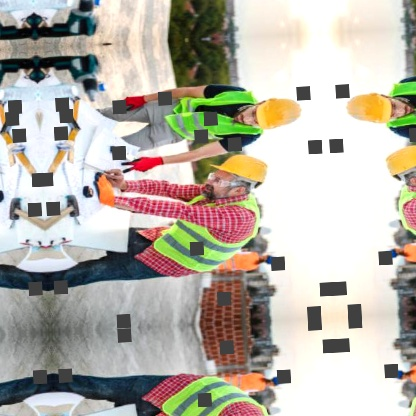blue: (263, 253, 280, 268)
vest: (145, 192, 267, 277), (163, 86, 259, 147), (214, 250, 264, 275)
yellow: (207, 150, 271, 193), (253, 93, 305, 135)
